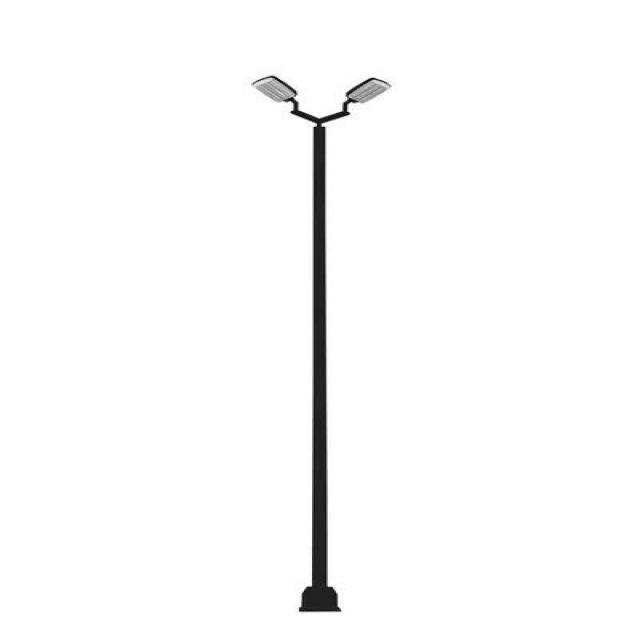Pole: (291, 98, 354, 613)
